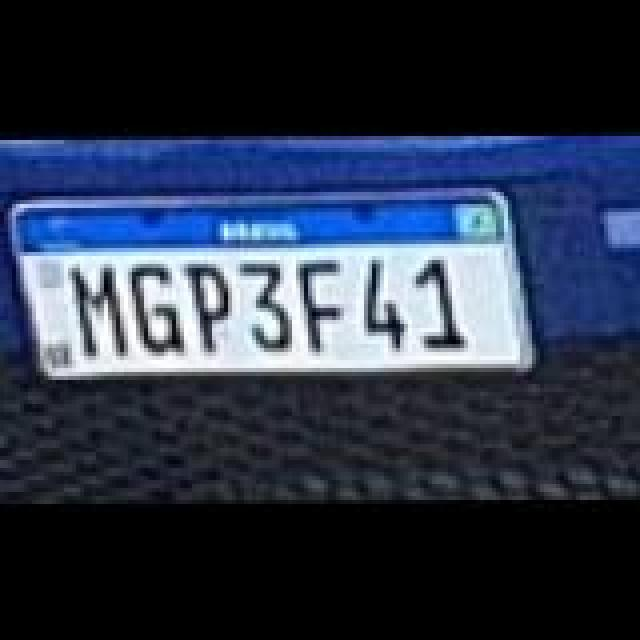1: (414, 254, 466, 350)
3: (242, 258, 294, 354)
4: (360, 254, 408, 350)
F: (298, 254, 350, 350)
G: (130, 260, 190, 356)
M: (70, 260, 130, 356)
P: (188, 256, 236, 348)
